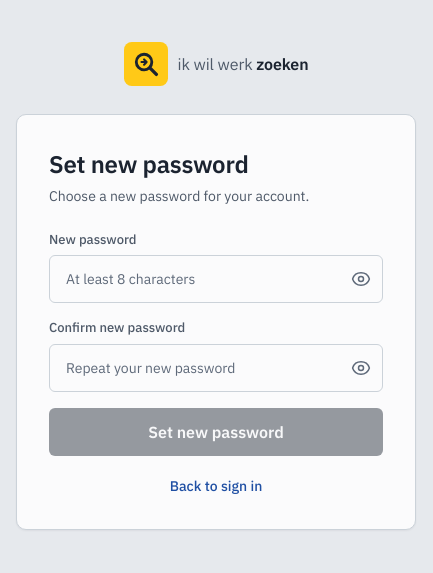
Test case: ResetPasswordView – setting the password › reports an expired or reused link and stays on the page
The image size is (433, 573).
Type "new-password" into the password field with id "new-password" at point(216, 279), box [49, 255, 383, 303]
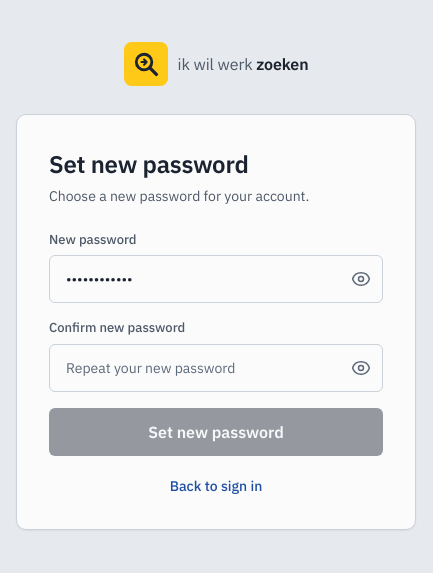
Type "new-password" into the password field with id "confirm-password" at point(216, 368), box [49, 344, 383, 392]
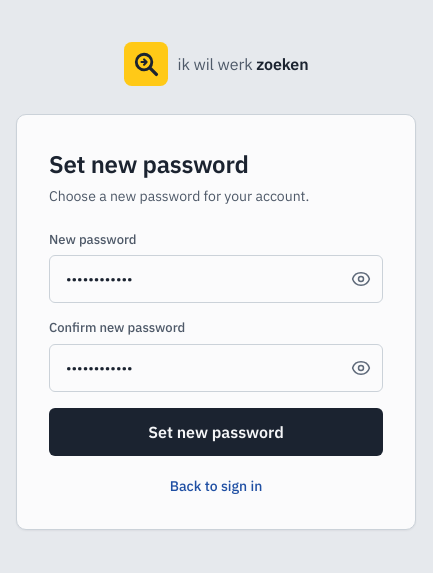
Submit the form, box [49, 230, 383, 456]
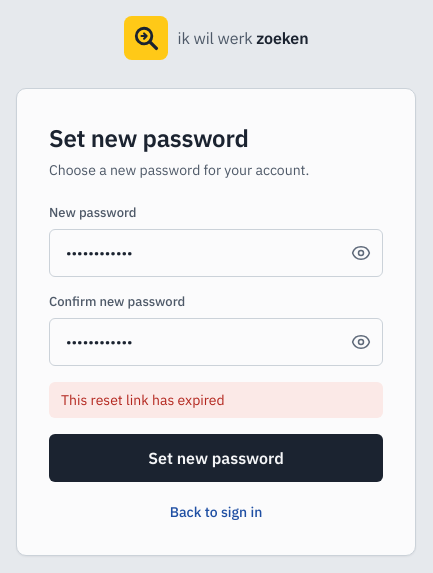
Expected: the message with class "auth-error" reads "This reset link has expired", [61, 391, 225, 409]
